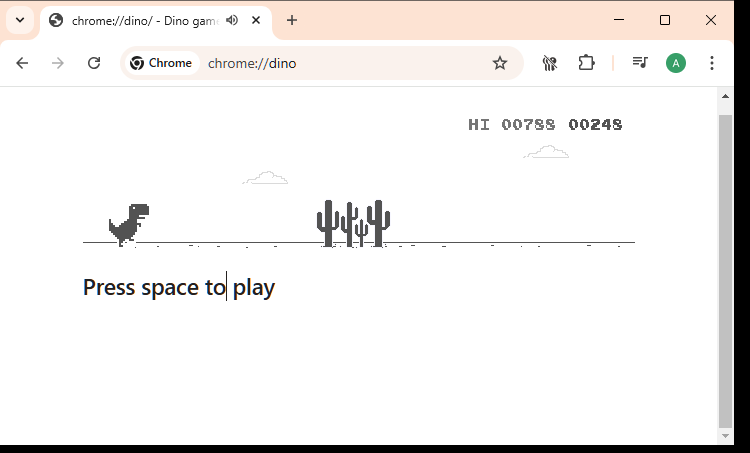cactus: (367, 200, 390, 248), (316, 200, 339, 247), (340, 202, 358, 248), (355, 219, 368, 248)
dino: (108, 203, 150, 248)
